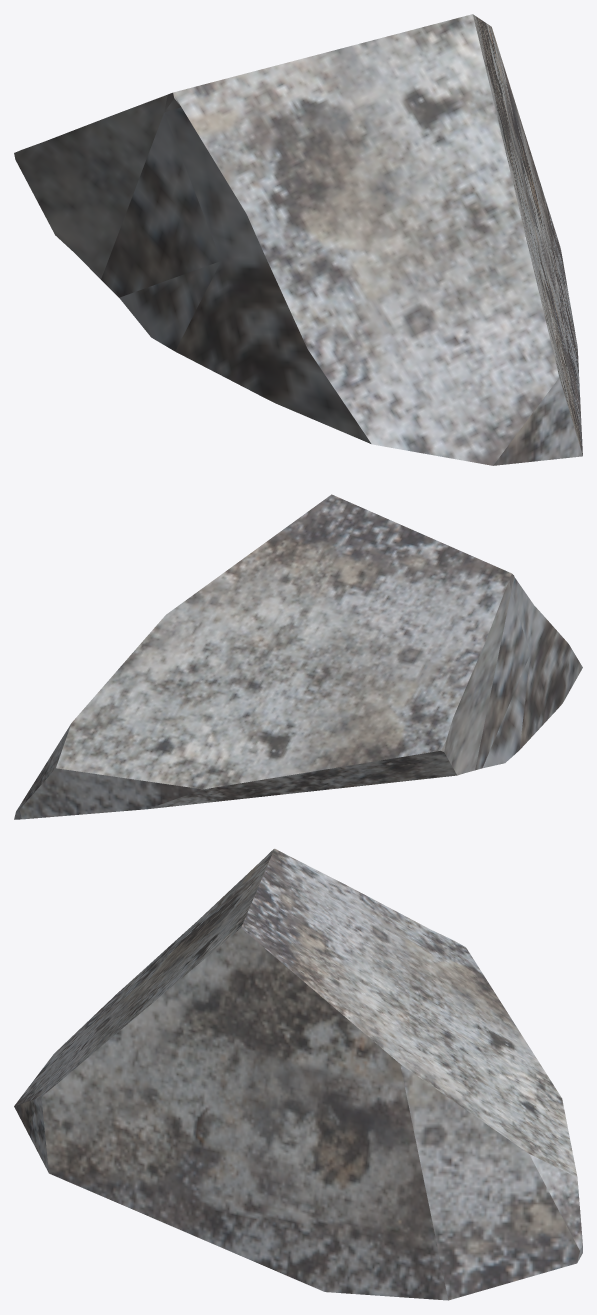
The model's file is Asteroid_Large_001_02_009_03_053.fbx.
The picture shows the model from 3 angles, top to bottom: view 1: azimuth 30°, elevation 25°; view 2: azimuth 150°, elevation 25°; view 3: azimuth 270°, elevation 25°; orthographic projection. The views are drawn at different scales.
Visible parts, largest first — view 1: Asteroid_Large_001_02_009_03_053; view 2: Asteroid_Large_001_02_009_03_053; view 3: Asteroid_Large_001_02_009_03_053.
Part boxes in pixels (x1,y1,x2,y2): Asteroid_Large_001_02_009_03_053: (14,14,582,465); Asteroid_Large_001_02_009_03_053: (14,494,582,819); Asteroid_Large_001_02_009_03_053: (14,848,582,1300).
Size of the model in its own units: 8.64 by 6.37 by 10.74.
